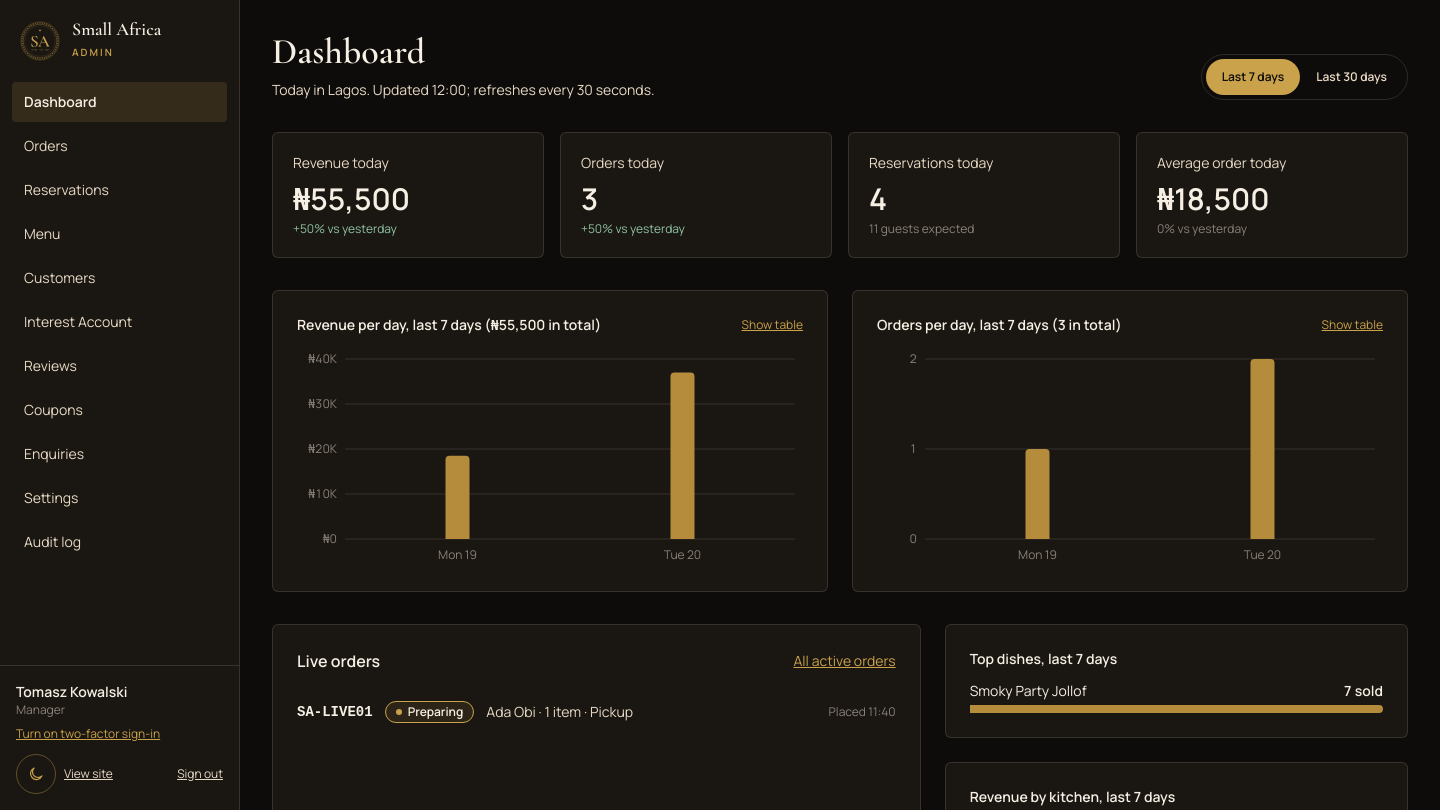
Test: Admin panel › dashboard shows figures, deltas, the live feed and a table view of each chart
Expected: the text "₦55,500" is shown, 293,178 -> 410,219
Expected: the text "+50% vs yesterday" is shown 2 times, 293,220 -> 397,237; 581,220 -> 685,237
Click the 1st button "Show table".
click(772, 325)  # box 742,317 -> 803,333
(page scrolled)
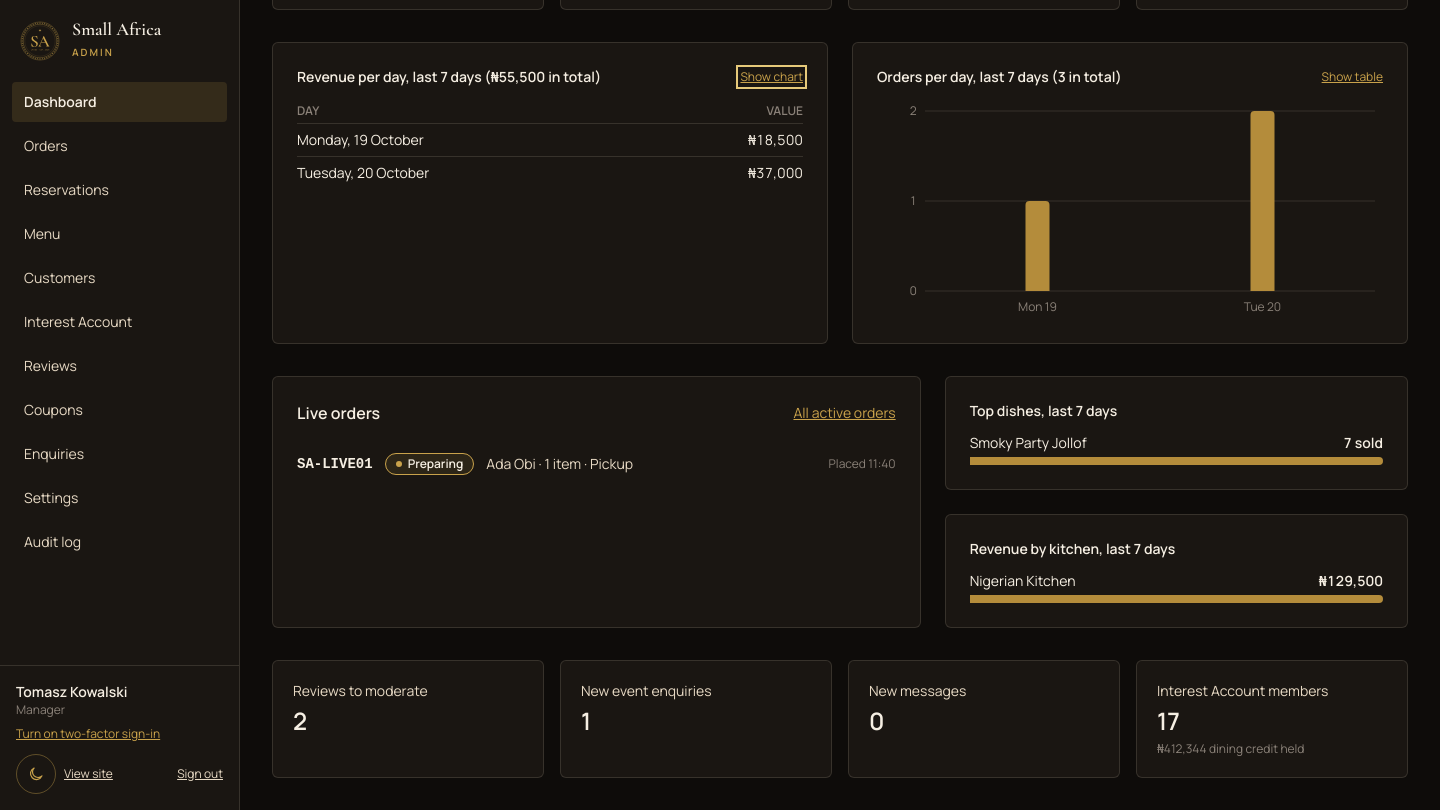
Expected: the text "2" is shown, 293,704 -> 307,737
Result: the cell "₦18,500" is shown at 654,124 -> 803,156
